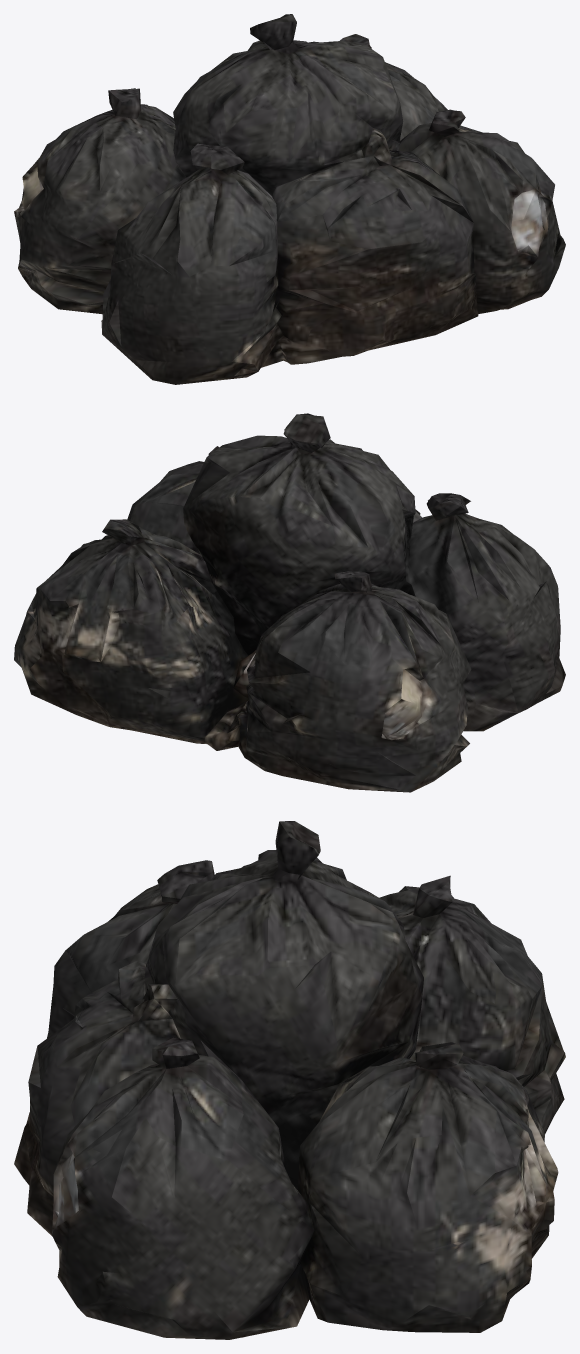
The model's file is p7-trash-bag-pile.glb.
3 views of the same model, one above another, from view 1: azimuth 30°, elevation 25°; view 2: azimuth 150°, elevation 25°; view 3: azimuth 270°, elevation 25° (orthographic). The views are drawn at different scales.
Visible parts, largest first — view 1: p7-trash-bag-pile; view 2: p7-trash-bag-pile; view 3: p7-trash-bag-pile.
Boxes of the visible parts, bbox=[...] form: p7-trash-bag-pile: bbox=[14, 14, 565, 384]; p7-trash-bag-pile: bbox=[14, 413, 565, 792]; p7-trash-bag-pile: bbox=[14, 821, 565, 1339].
Size of the model in its own units: 1 by 0.6 by 0.8.
Materials: 1 (1 with a texture image).
